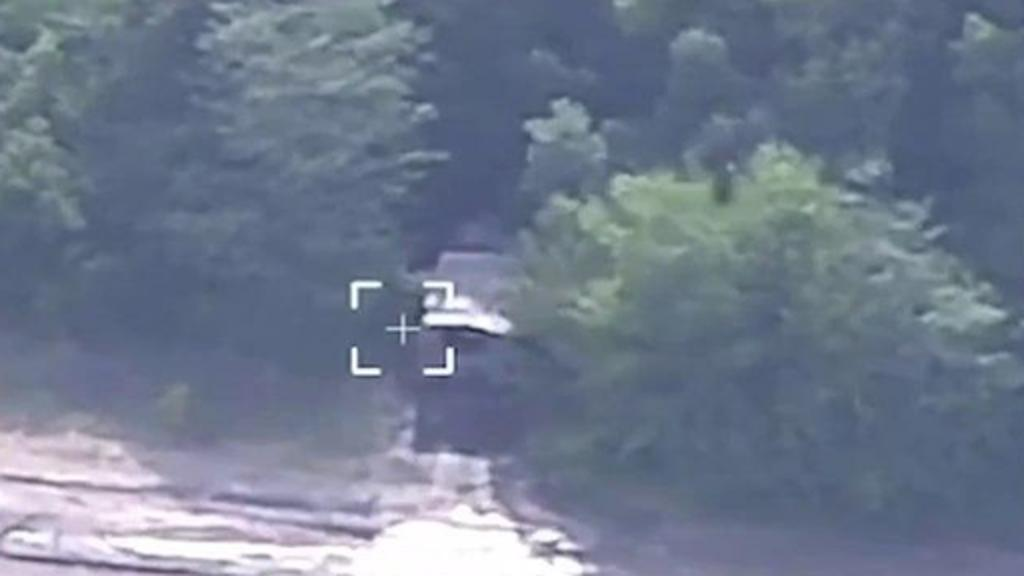TRUCK: (392, 232, 542, 398)
